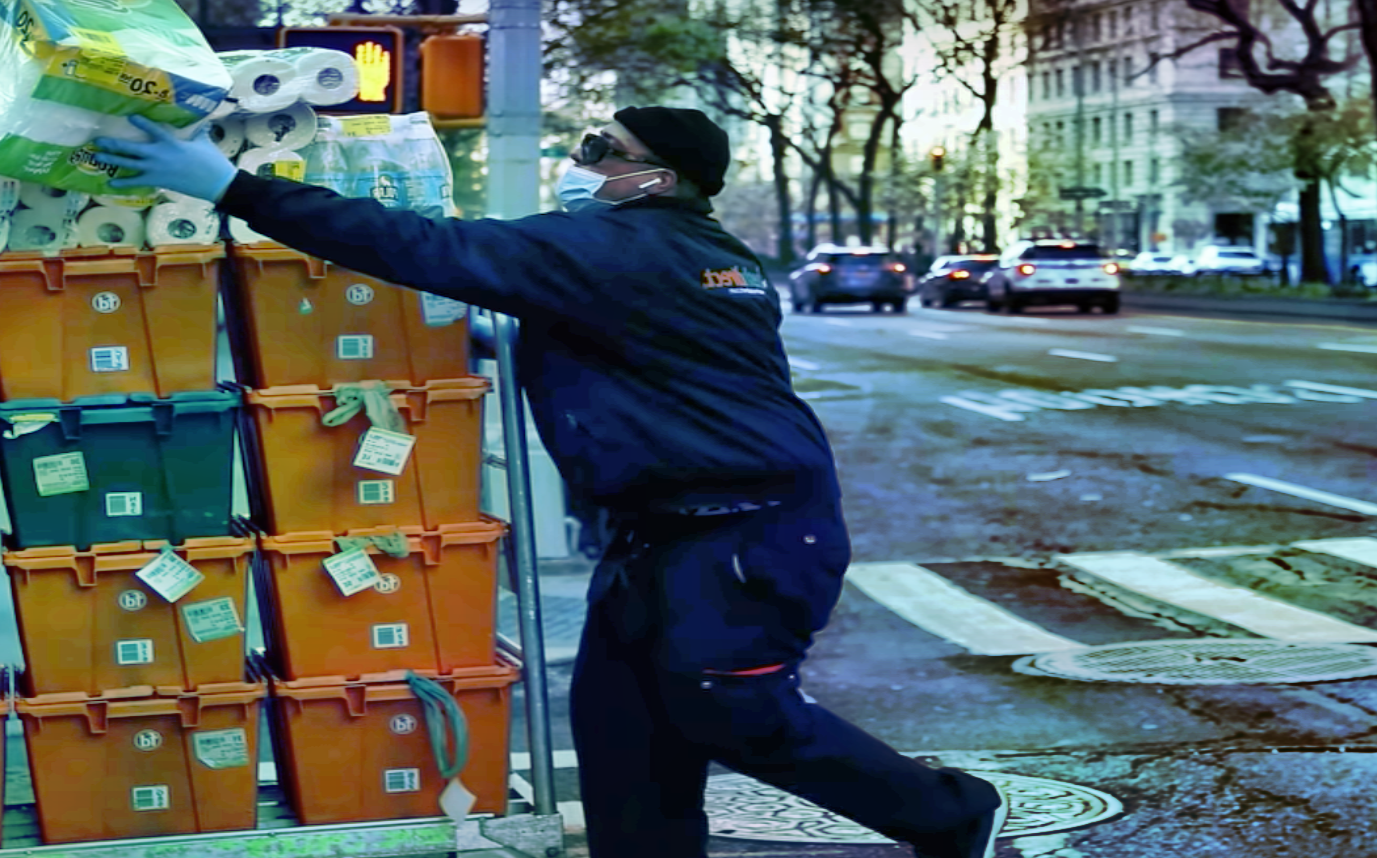mask_weared_incorrect: (553, 104, 727, 217)
